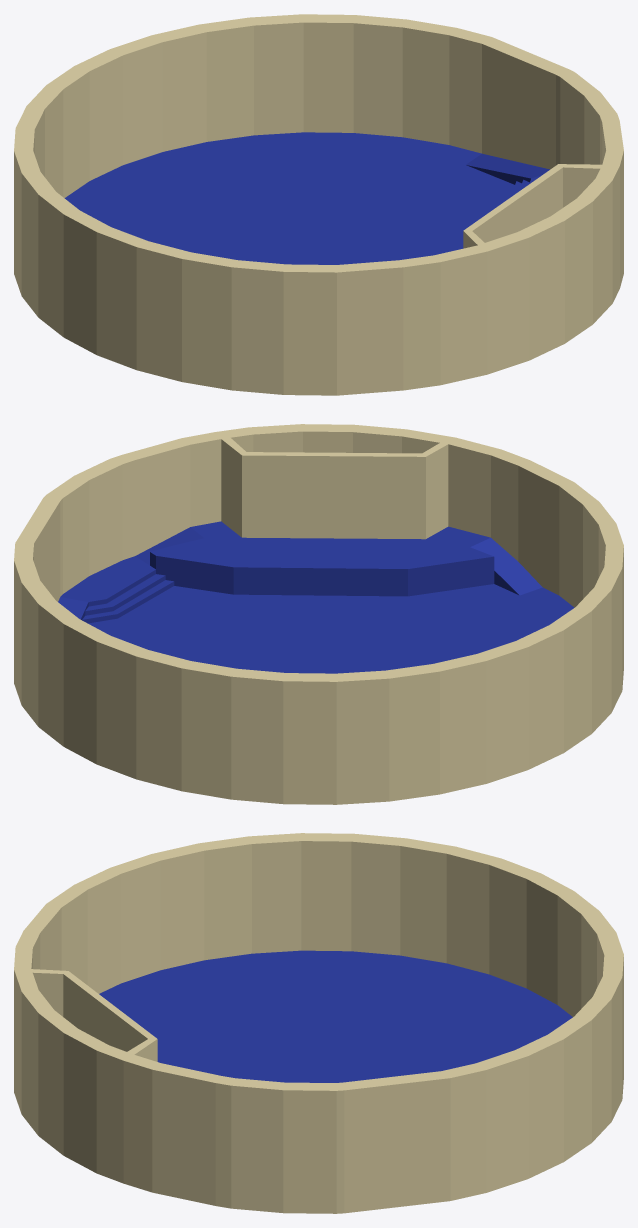
The model's file is room.fbx.
3 renders of one model, top to bottom at view 1: azimuth 30°, elevation 25°; view 2: azimuth 150°, elevation 25°; view 3: azimuth 270°, elevation 25°, orthographic.
Parts seen in each view (by area): view 1: base; view 2: base; view 3: base.
Boxes of the visible parts, box(x1,y1,x2,y2) form: base: box(14, 14, 623, 395); base: box(14, 424, 623, 804); base: box(14, 833, 623, 1213).
Bounding box in the file's own units: 202 × 44.99 × 202.
